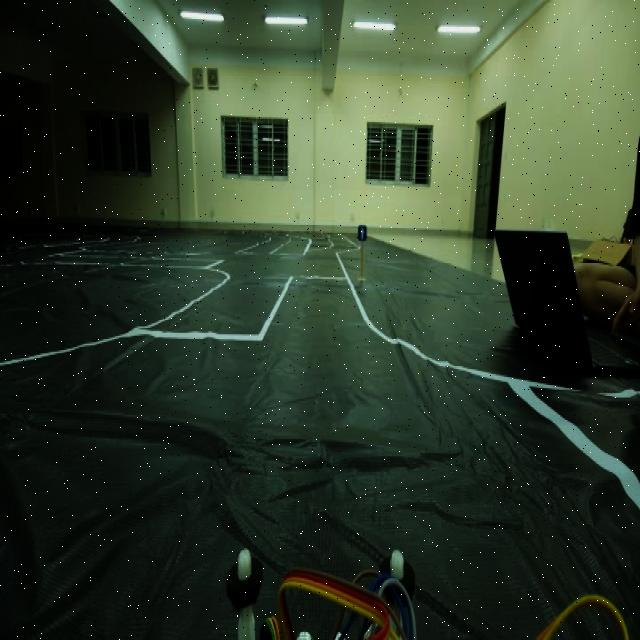onewayroad: (352, 216, 368, 246)
